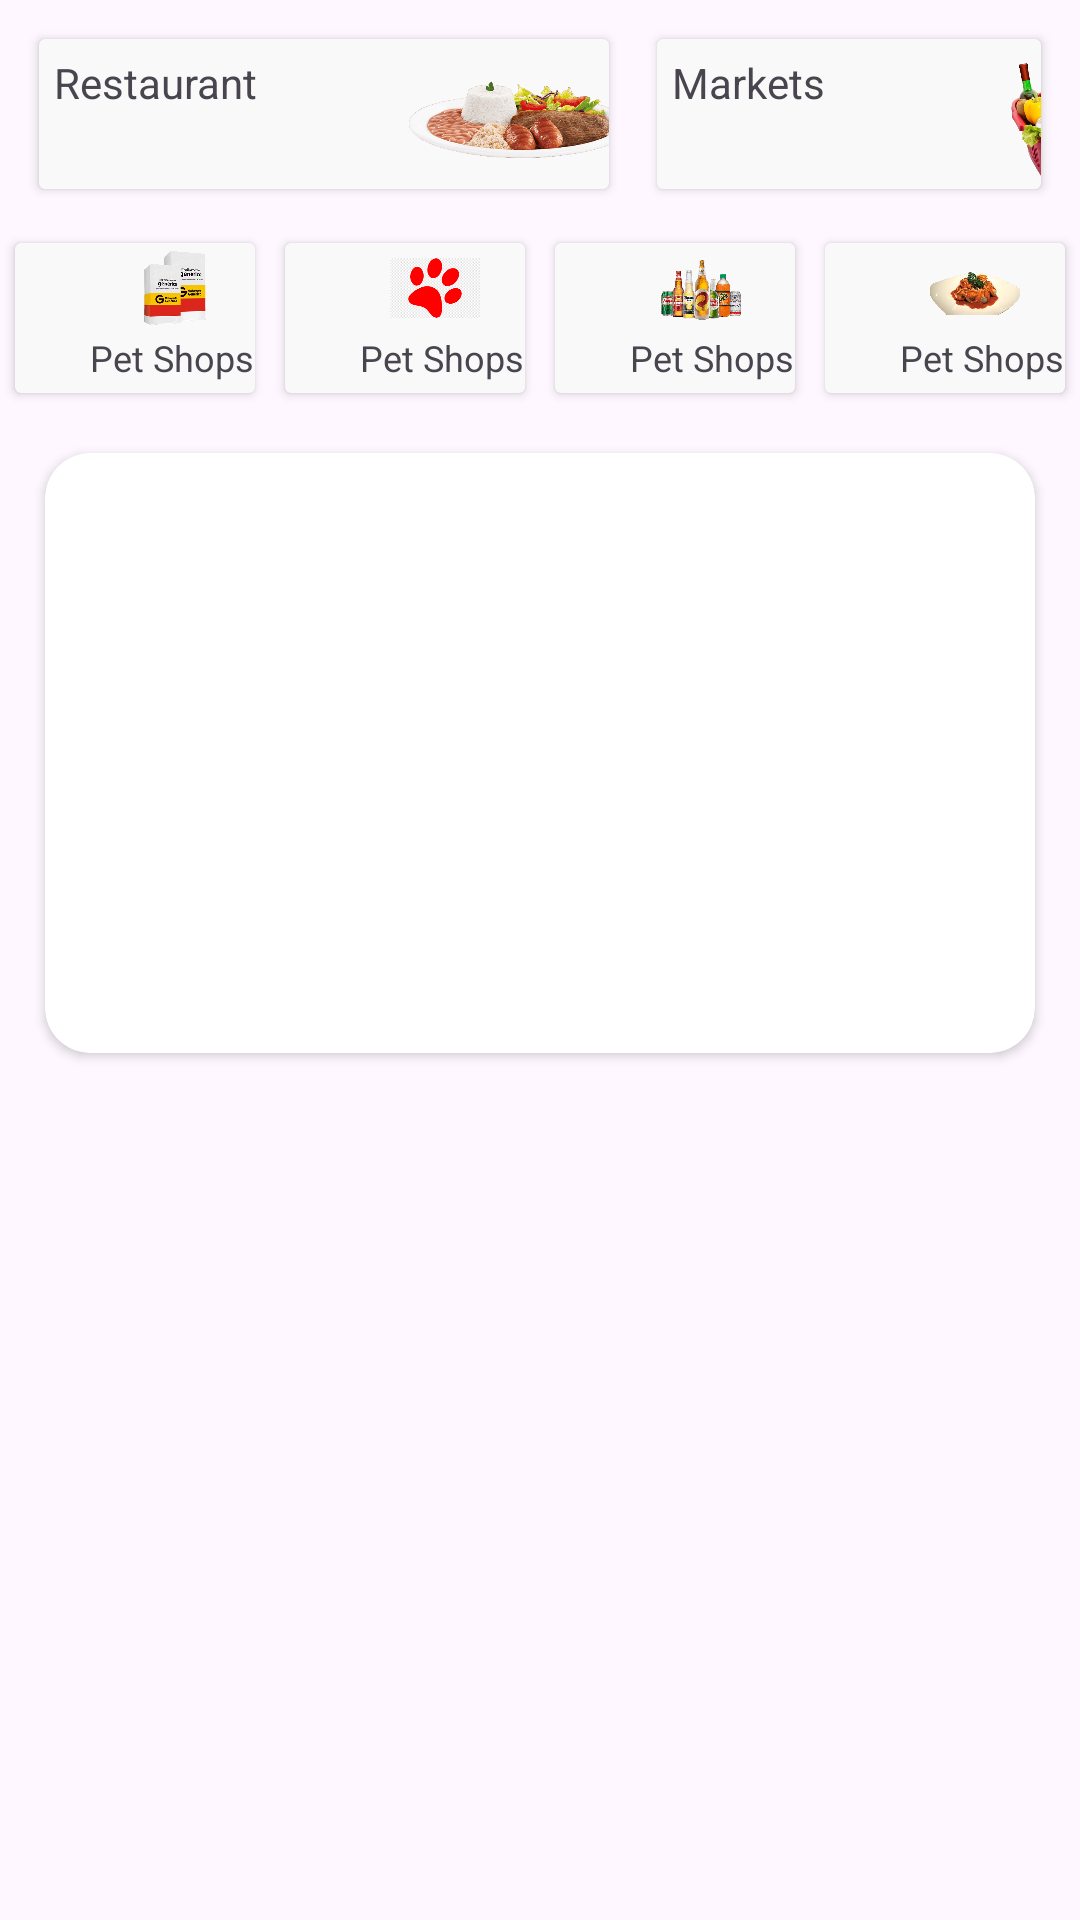

Named icons in this screenshot (1080 × 1920) and their centers, point (x, y):
bebidas: point (701, 290)
gurmer: point (975, 293)
remedios: point (175, 288)
